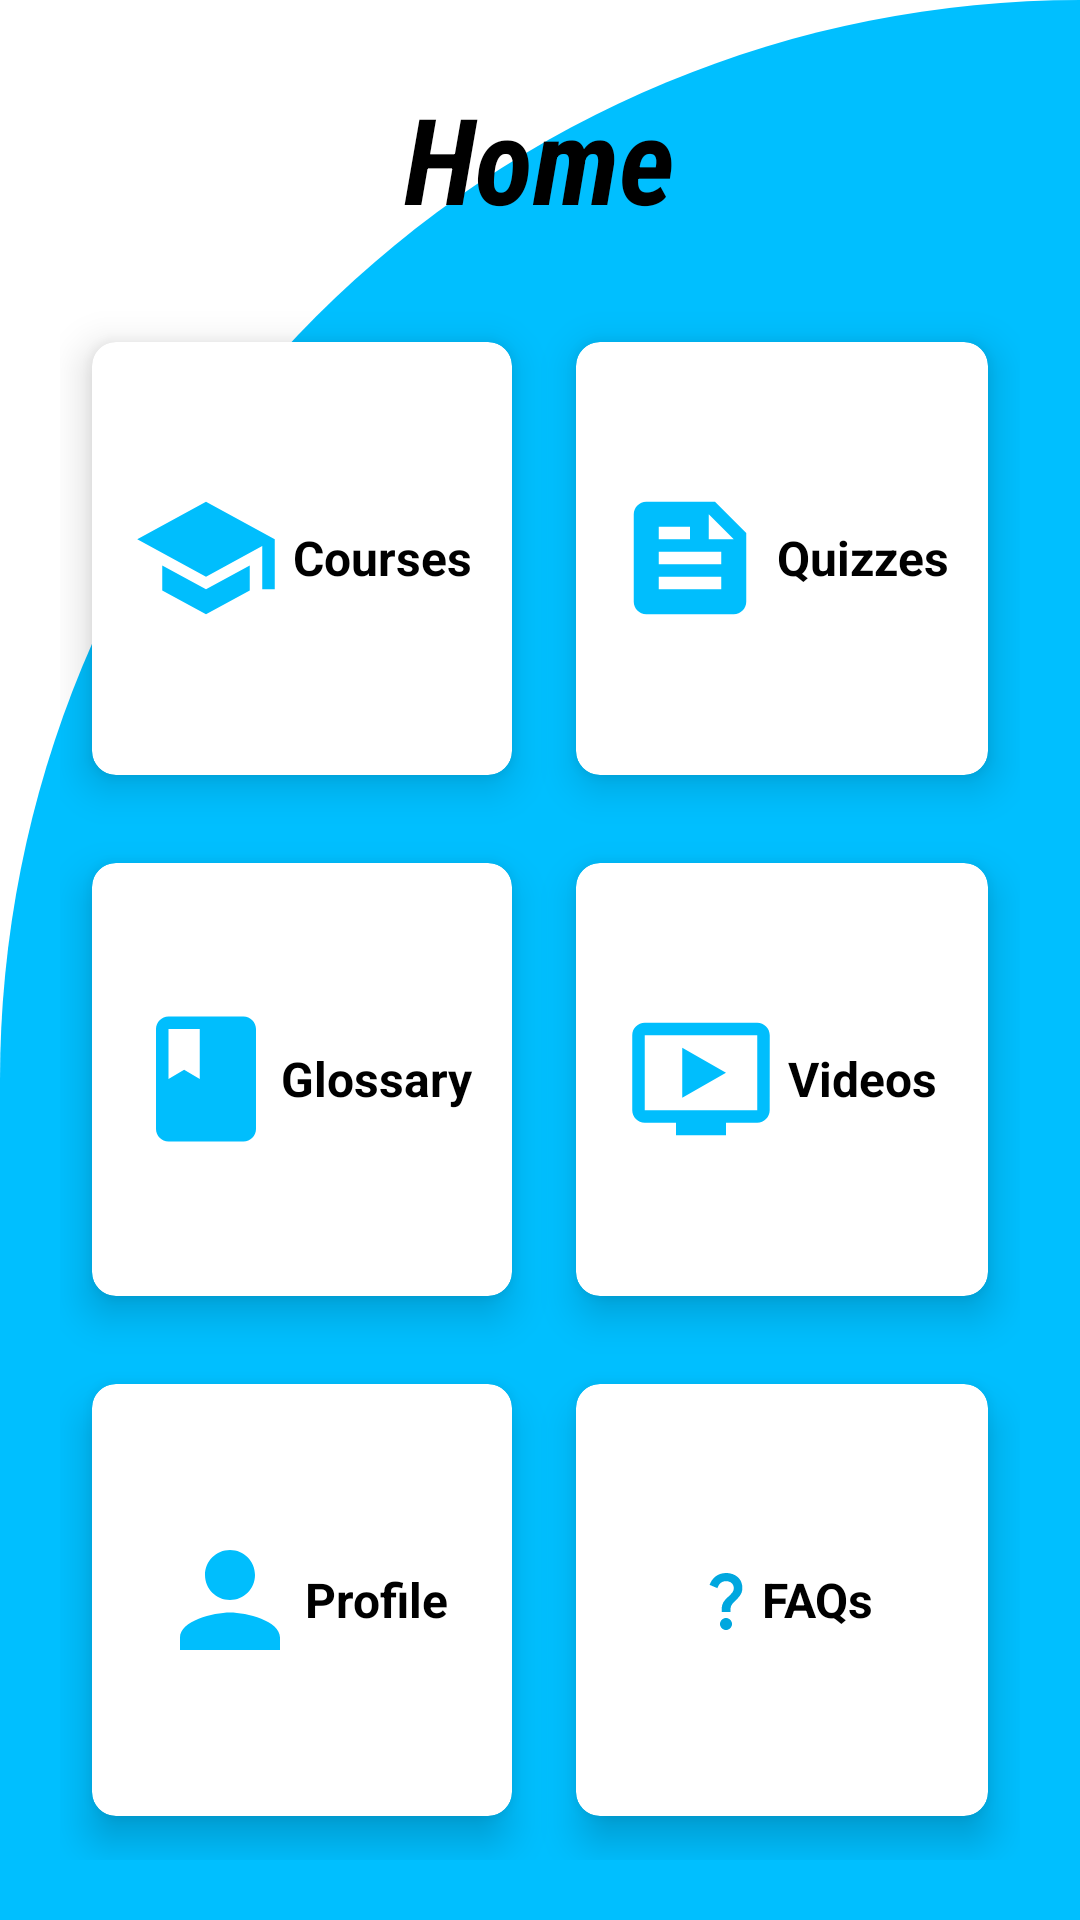

Named icons in this screenshot (1080 x 1920) and their bounding boxes, detection(x1, y1, x2, y2):
ondemand video: detection(632, 1022, 770, 1136)
person: detection(180, 1550, 280, 1650)
question mark: detection(709, 1573, 743, 1630)
